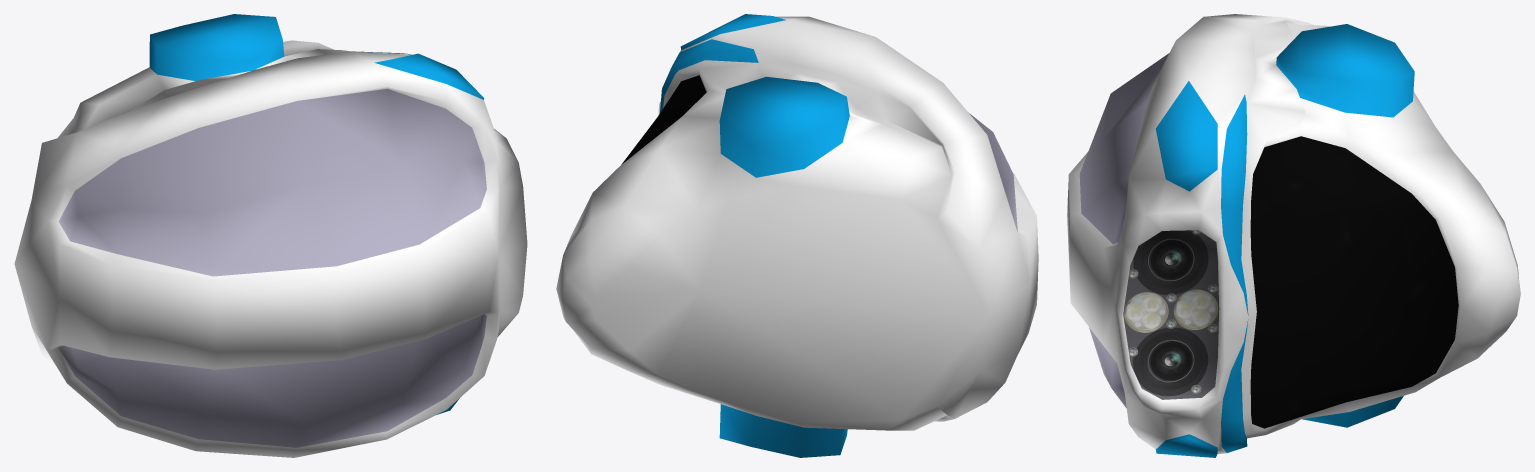
Rendered from head_multisense_png.dae.
The picture shows the model from 3 angles, left to right: view 1: azimuth 30°, elevation 25°; view 2: azimuth 150°, elevation 25°; view 3: azimuth 270°, elevation 25°; orthographic projection. The views are drawn at different scales.
Visible parts, largest first — view 1: head_multisense; view 2: head_multisense; view 3: head_multisense.
Part boxes in pixels (bbox=[...]): head_multisense: bbox=[14, 14, 527, 457]; head_multisense: bbox=[556, 14, 1038, 457]; head_multisense: bbox=[1067, 14, 1520, 457].
Bounding box in the file's own units: 0.2895 × 0.2858 × 0.2532.
Materials: 1 (1 with a texture image).
